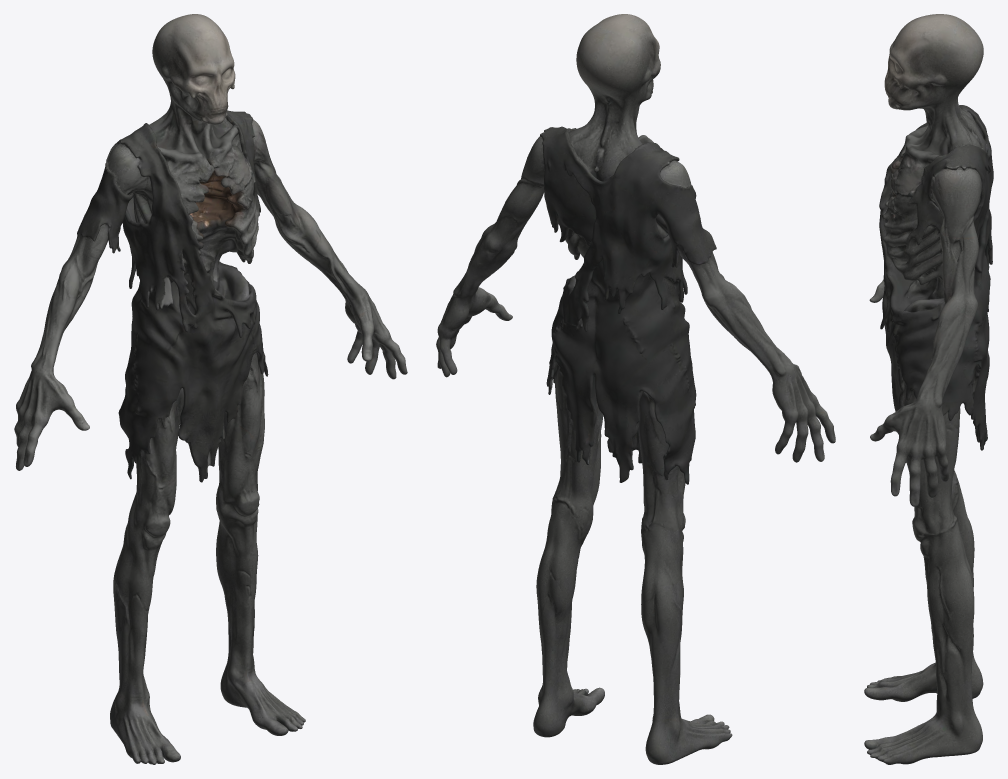
Rendered from HOLLOW-T1-UNDONE-GAME.glb.
3 views of the same model, side by side, from view 1: azimuth 30°, elevation 25°; view 2: azimuth 150°, elevation 25°; view 3: azimuth 270°, elevation 25° (orthographic).
Visible parts, largest first — view 1: mesh_node; view 2: mesh_node; view 3: mesh_node.
Part boxes in pixels (<box>): mesh_node: <box>14,14,407,764</box>; mesh_node: <box>436,14,835,764</box>; mesh_node: <box>864,14,993,764</box>.
Bounding box in the file's own units: 1.07 × 1.9 × 0.3144.
Materials: 1 (1 with a texture image).
